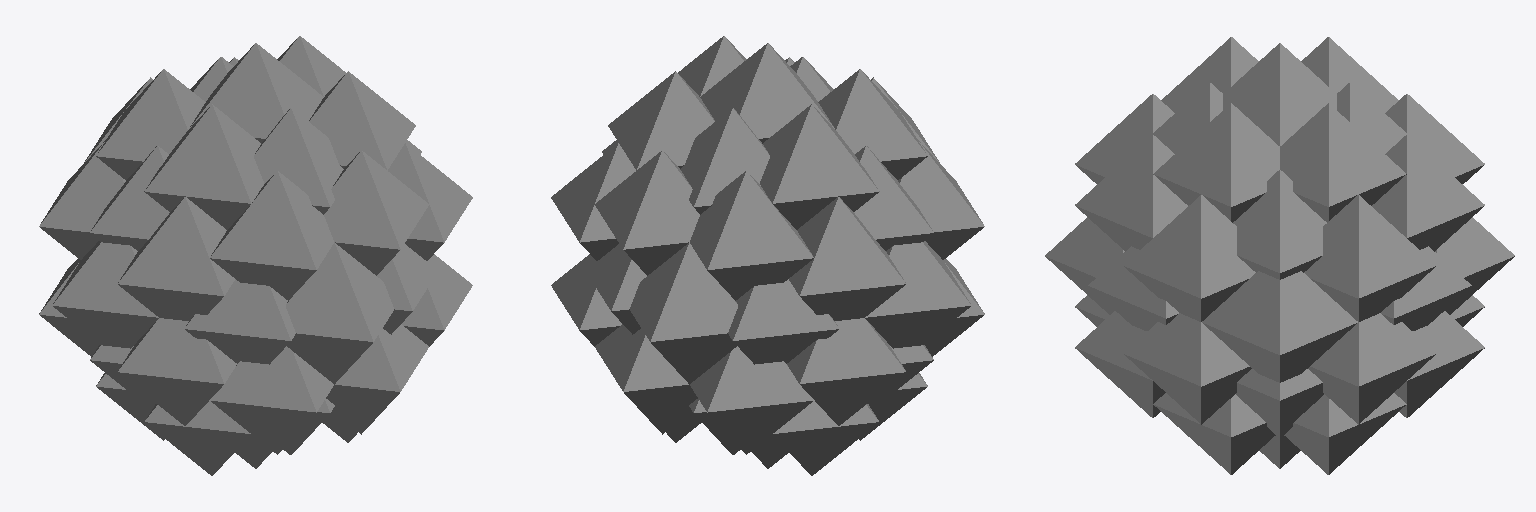
File: weird.obj
3 views of the same model, side by side, from view 1: azimuth 30°, elevation 25°; view 2: azimuth 150°, elevation 25°; view 3: azimuth 270°, elevation 25° (orthographic).
Visible parts, largest first — view 1: Hedra002; view 2: Hedra002; view 3: Hedra002.
Boxes of the visible parts, x1=… form: Hedra002: x1=39, y1=36, x2=472, y2=475; Hedra002: x1=551, y1=36, x2=984, y2=475; Hedra002: x1=1045, y1=37, x2=1514, y2=474.
Size of the model in its own units: 3 by 3 by 3.